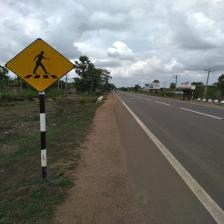yellowboard: (5, 37, 76, 92)
